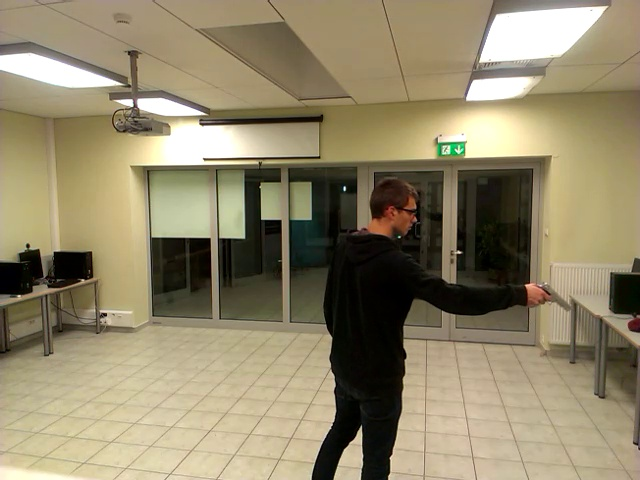gun: (517, 256, 581, 337)
